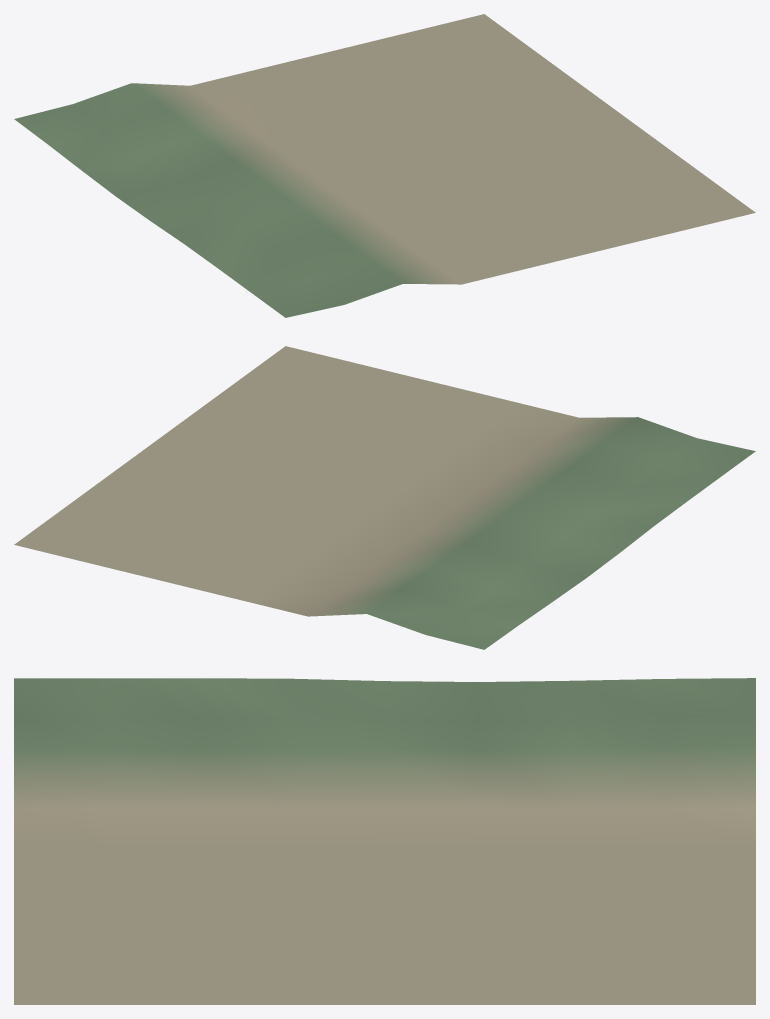
3 renders of one model, top to bottom at view 1: azimuth 30°, elevation 25°; view 2: azimuth 150°, elevation 25°; view 3: azimuth 270°, elevation 25°, orthographic. The views are drawn at different scales.
Parts seen in each view (by area): view 1: Lo; view 2: Lo; view 3: Lo.
Boxes of the visible parts, bbox=[...] form: Lo: bbox=[14, 14, 755, 317]; Lo: bbox=[14, 346, 755, 649]; Lo: bbox=[14, 678, 755, 1004].
Bounding box in the file's own units: 256 × 9.01 × 256.
